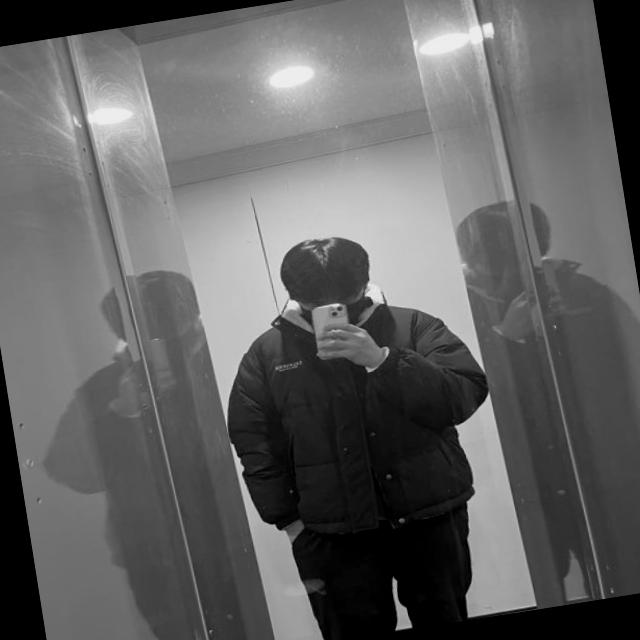denimpants: (289, 498, 477, 640)
padding: (210, 268, 510, 550)
